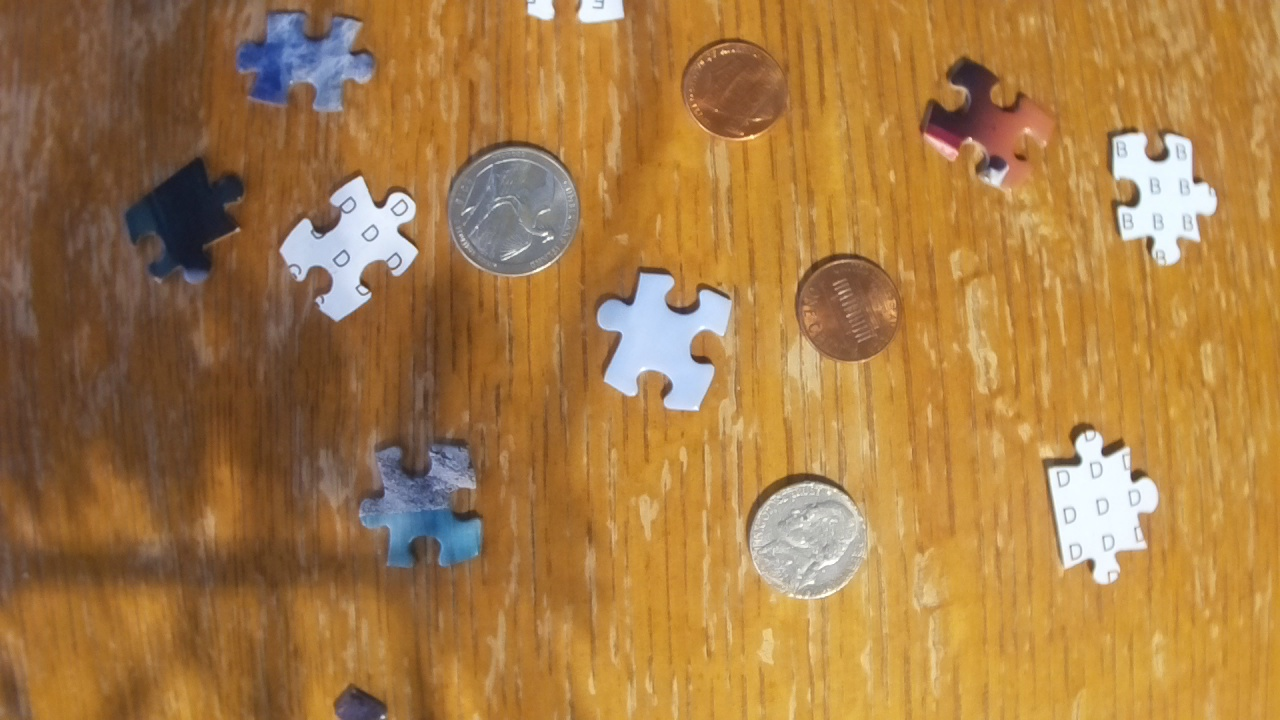nickel: (746, 471, 872, 603)
penny: (795, 252, 903, 366), (682, 36, 788, 140)
quarter: (446, 142, 580, 276)
